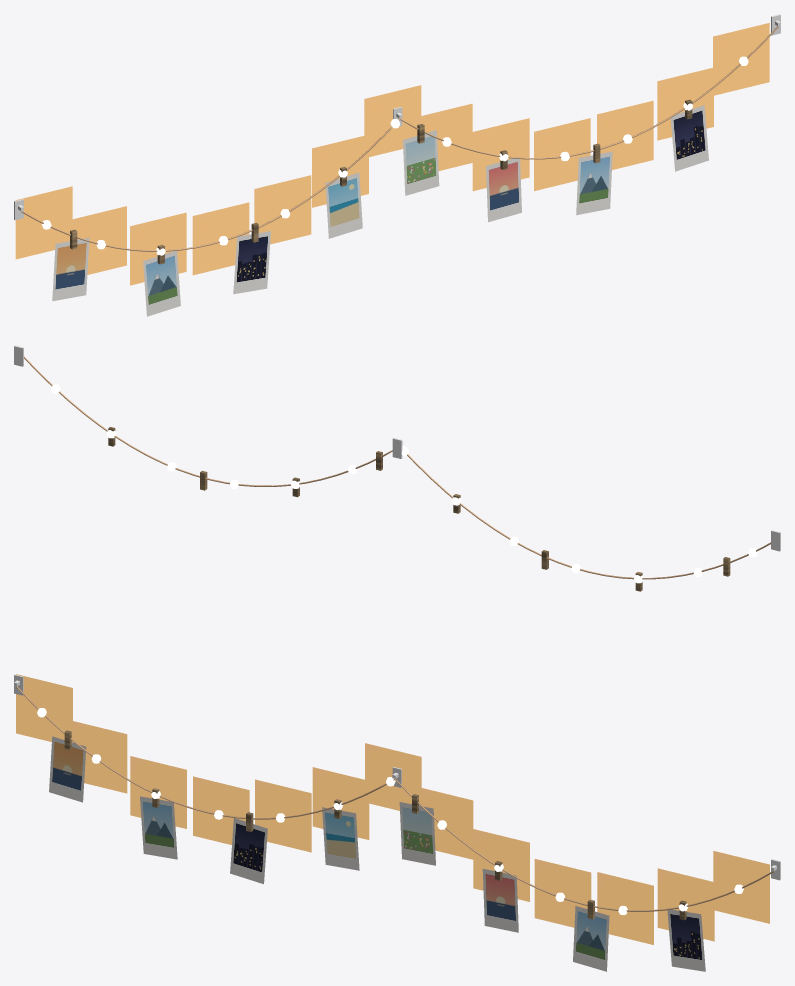
The model's file is obj-photo-string-lights.glb.
The picture shows the model from 3 angles, top to bottom: view 1: azimuth 30°, elevation 25°; view 2: azimuth 150°, elevation 25°; view 3: azimuth 330°, elevation 25°; orthographic projection.
Parts seen in each view (by area): view 1: obj-photo-string-lights; view 2: obj-photo-string-lights; view 3: obj-photo-string-lights.
Part boxes in pixels (bbox=[...]): obj-photo-string-lights: bbox=[14, 14, 780, 316]; obj-photo-string-lights: bbox=[14, 345, 780, 591]; obj-photo-string-lights: bbox=[14, 674, 780, 971].
Size of the model in its own units: 1.21 by 0.2545 by 0.015.
Materials: 6 (3 with a texture image).
